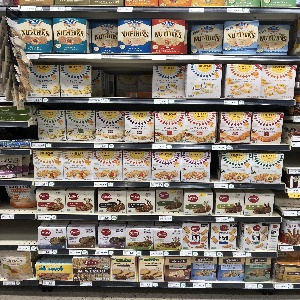void: (94, 66, 151, 98), (1, 218, 38, 242)
